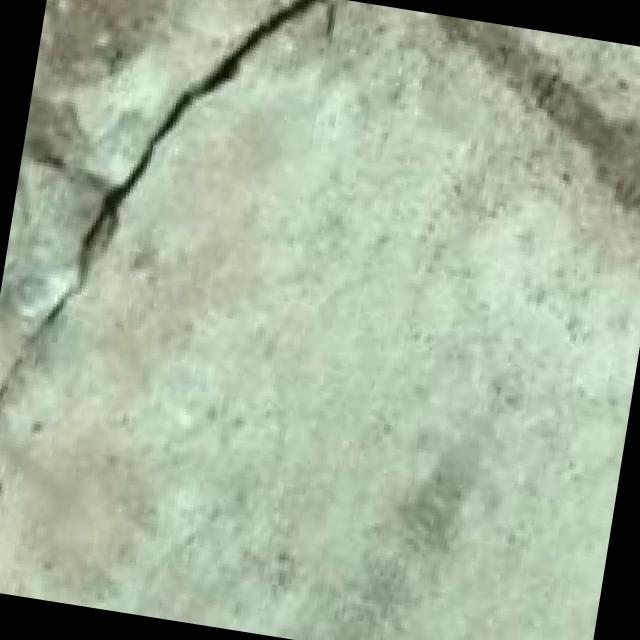crack: (0, 0, 354, 399)
